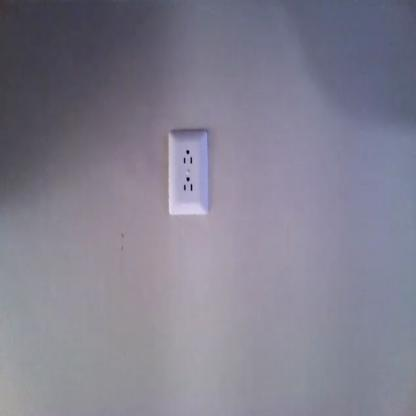OUTLET: (168, 131, 208, 216)
